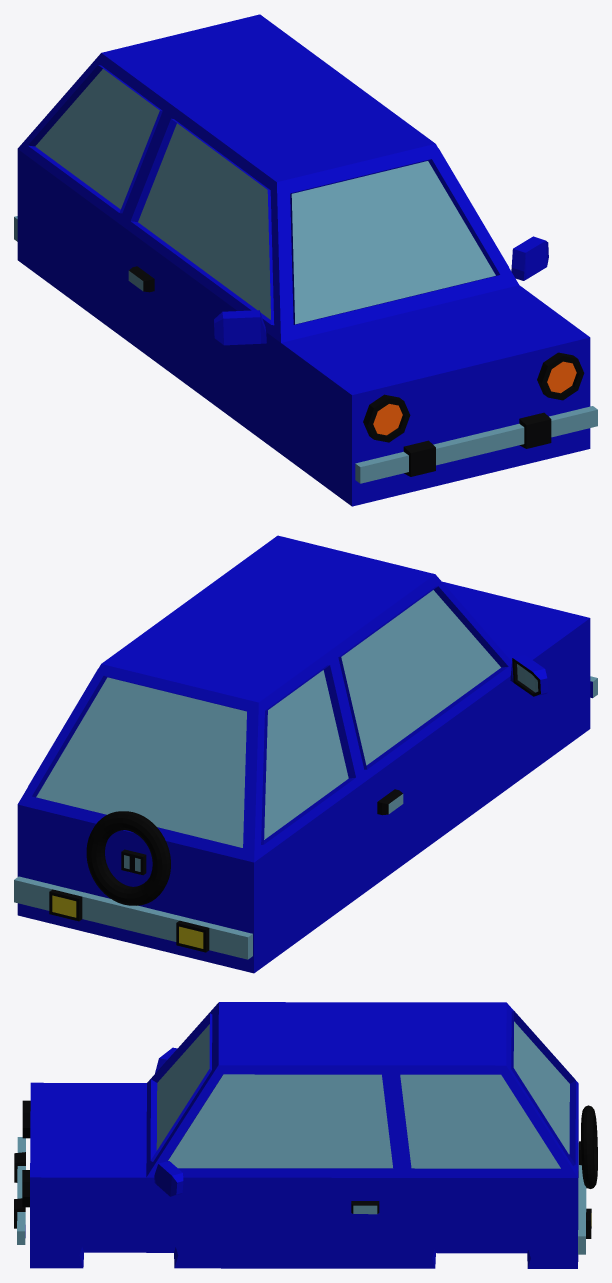
The model's file is carChasis.obj.
The picture shows the model from 3 angles, top to bottom: view 1: azimuth 30°, elevation 25°; view 2: azimuth 150°, elevation 25°; view 3: azimuth 270°, elevation 25°; orthographic projection. The views are drawn at different scales.
Visible parts, largest first — view 1: Cube.001, Cylinder.001; view 2: Cube.001, Torus; view 3: Cube.001, Torus, Cylinder.001.
Boxes of the visible parts, x1,y1,x2,y2 form: Cube.001: (14,14,597,506); Cylinder.001: (363,352,584,442); Cube.001: (14,535,597,973); Torus: (86,811,170,905); Cube.001: (14,1002,591,1268); Torus: (581,1105,597,1188); Cylinder.001: (22,1100,30,1207).
Size of the model in its own units: 2.8 by 1.85 by 5.21.
